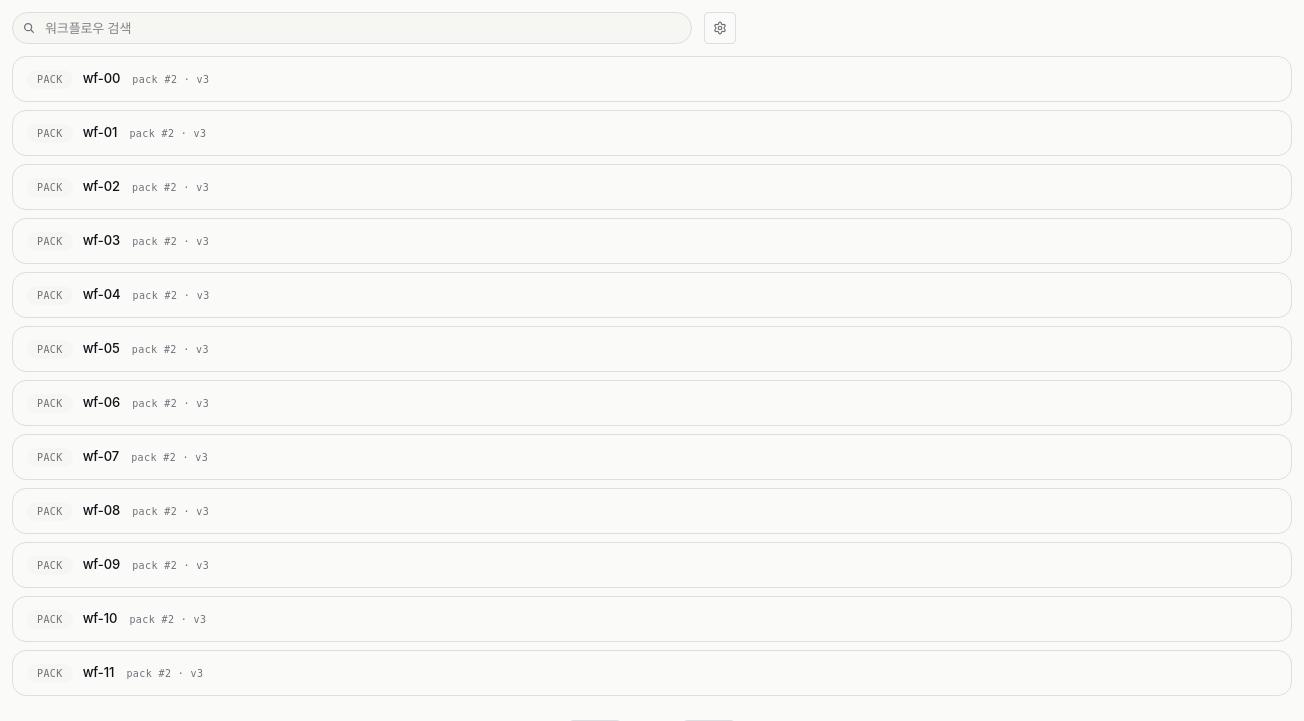
Test: WorkflowListView › 필터 칩 클릭 시 필터가 해제되고 그리드가 전체로 복원된다
The width and height of the screenshot is (1304, 721).
Type "wf-15" into the field with test id "wl-search-input".
click(352, 28); type("wf-15")  # box x1=12 y1=12 x2=692 y2=44
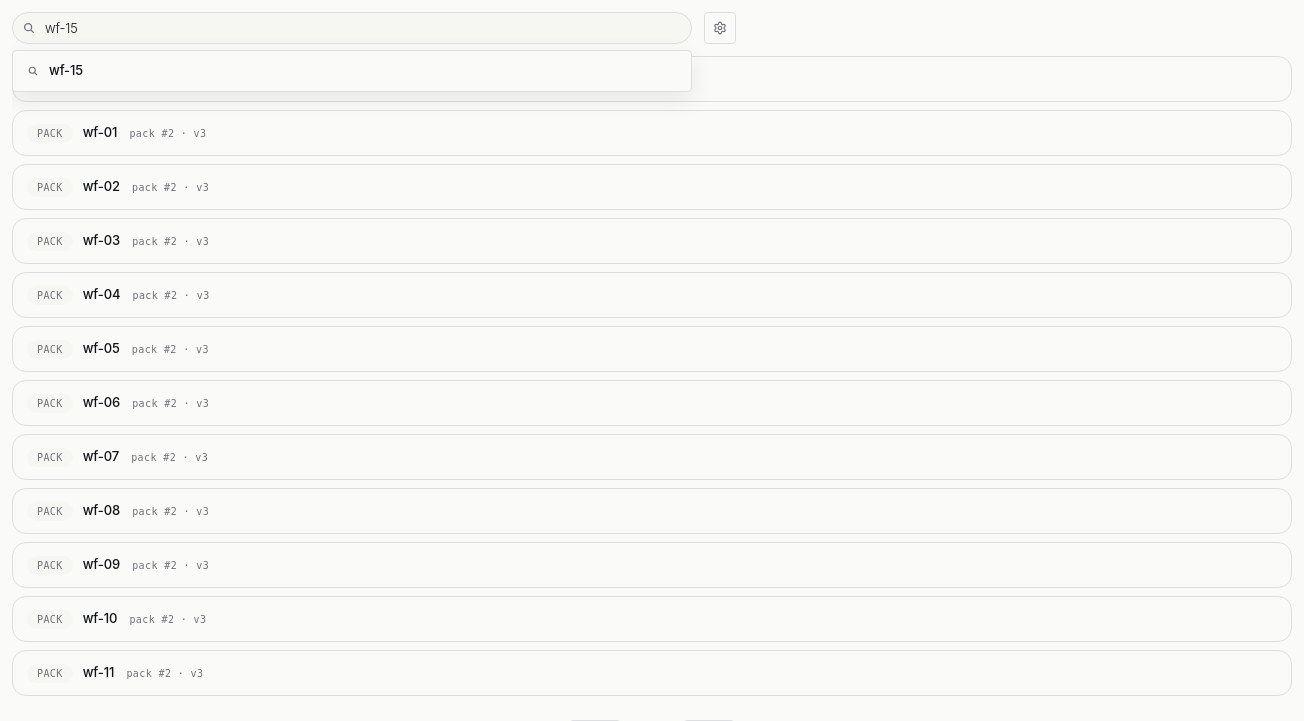
Click the button with test id "wl-search-item-16".
click(66, 70)  # box x1=13 y1=51 x2=691 y2=90
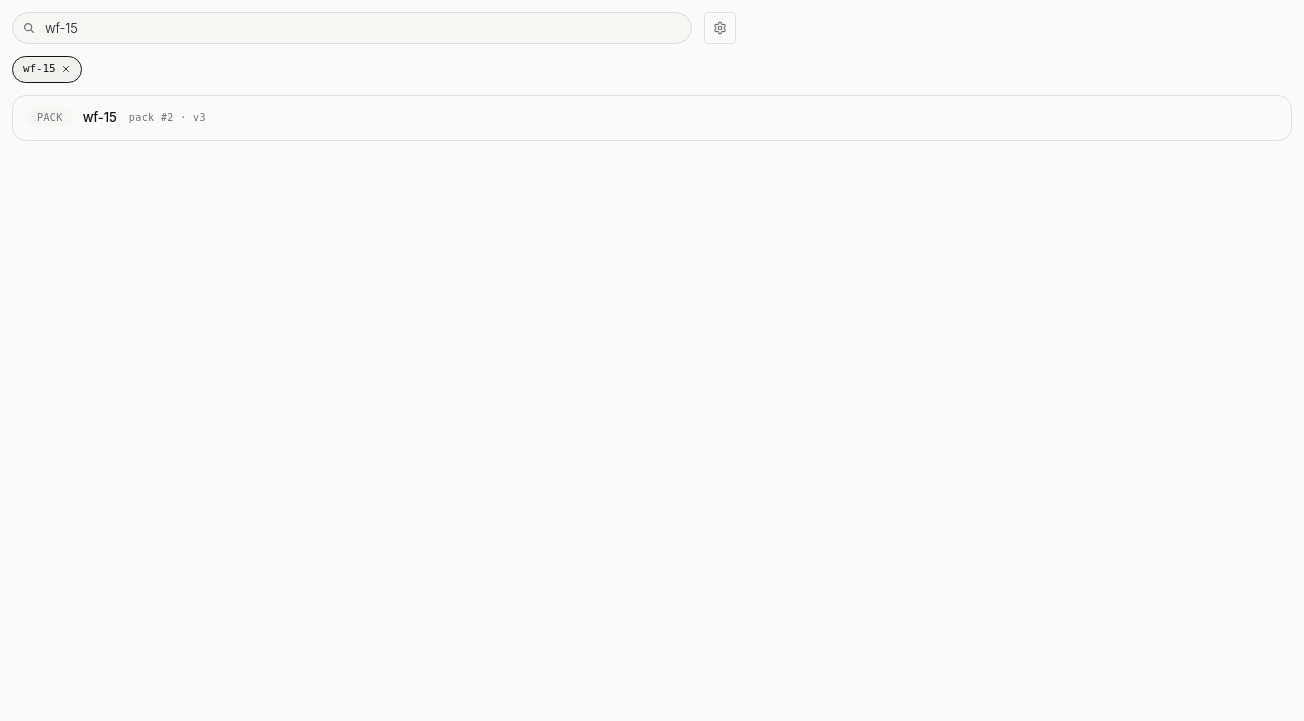
Click the button with test id "wl-filter-chip".
click(47, 69)  # box x1=12 y1=56 x2=82 y2=82
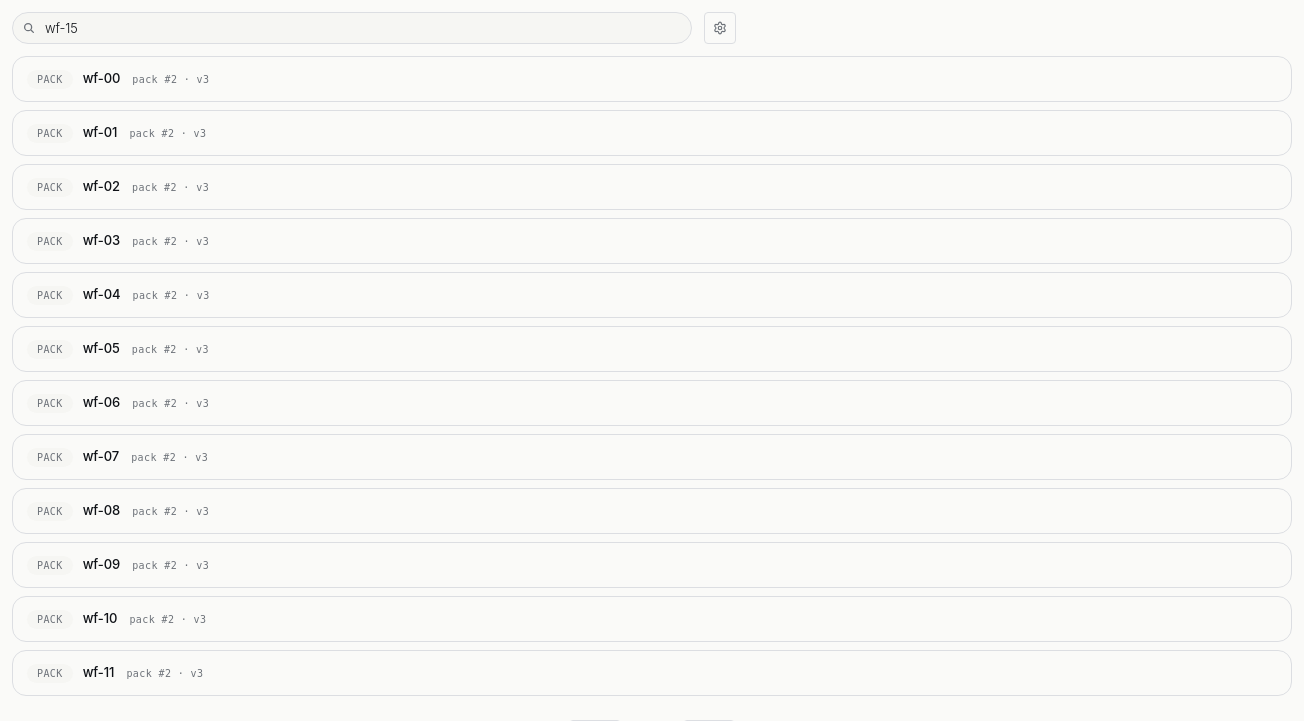
Now the button with test id "wl-filter-chip" is gone
Now the element with test id "wl-card-1" is shown, box x1=12 y1=56 x2=1292 y2=102
